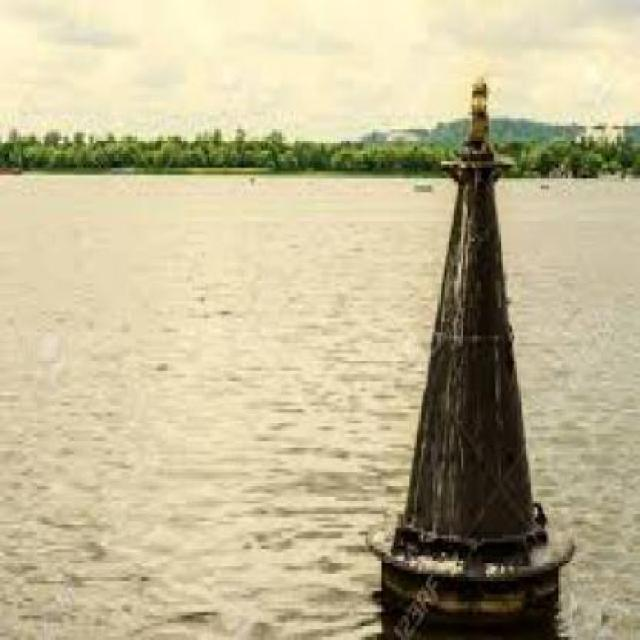buoy: (359, 61, 578, 624)
